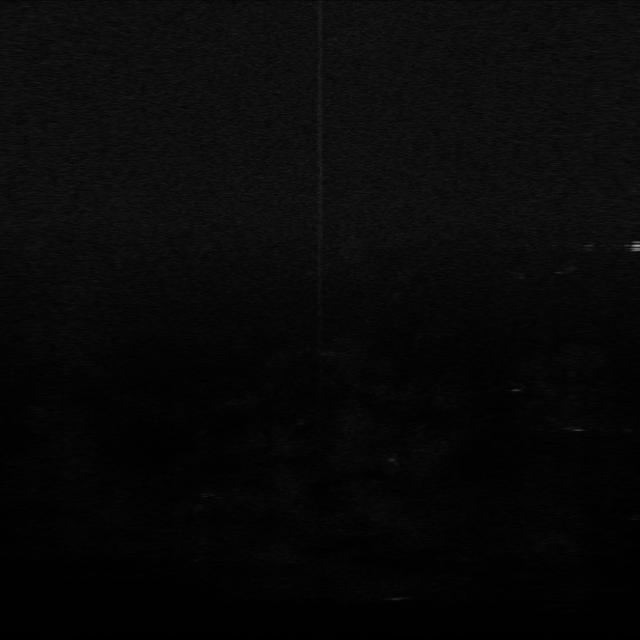rov: (630, 241, 640, 257)
